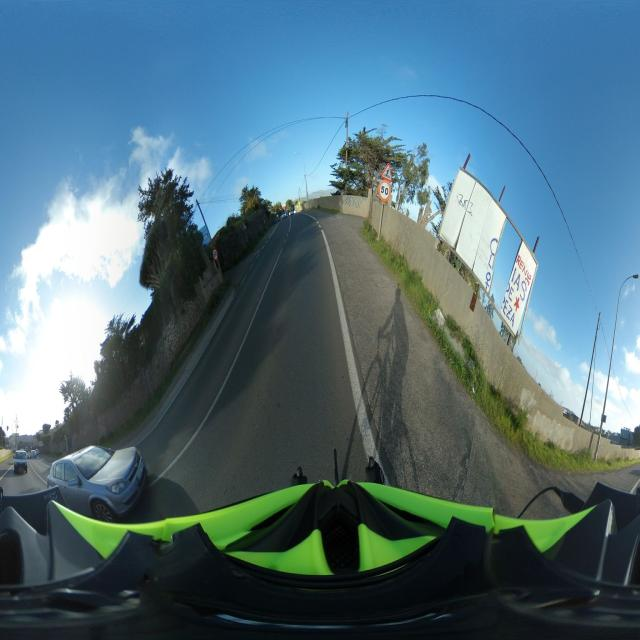car: (48, 445, 150, 520), (46, 444, 114, 494), (13, 448, 28, 476), (30, 448, 38, 460)
